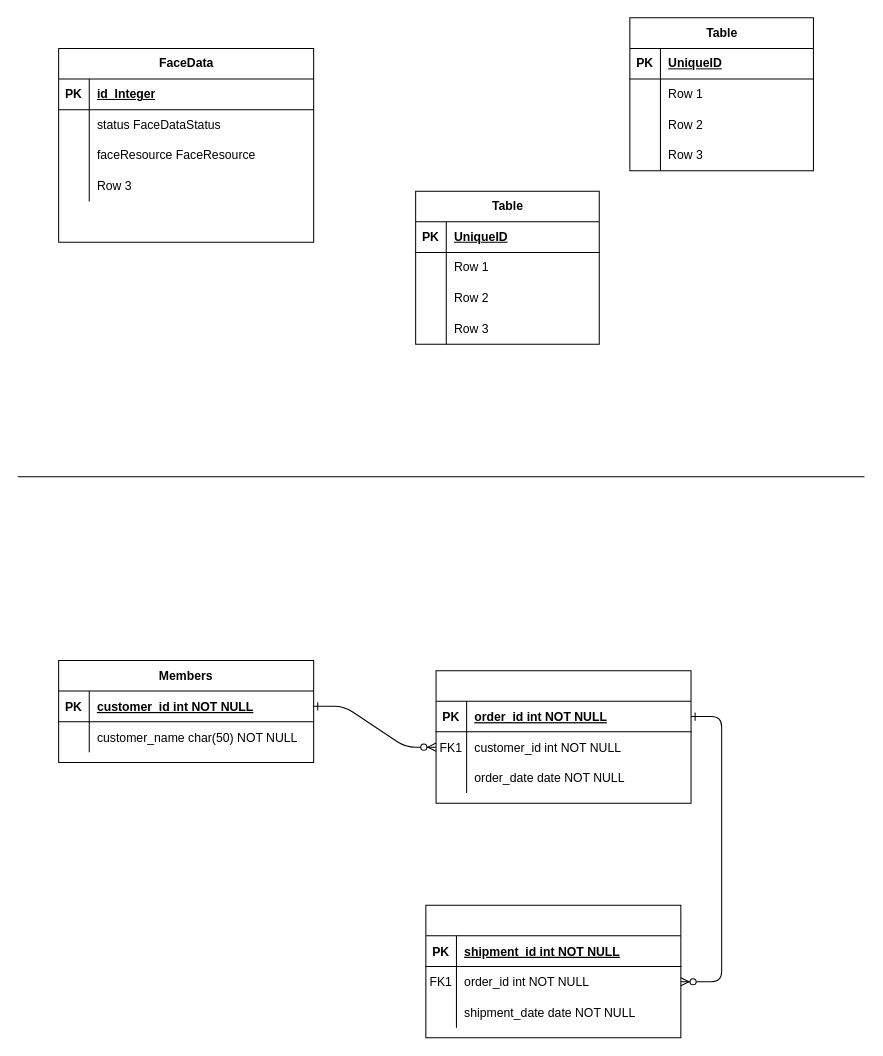
The diagram is 883 pixels wide and 1056 high, and some of its shapes have lost their labels. Each missing label, with the box of its shape:
Orders: (435, 670, 691, 803)
Shipments: (425, 904, 681, 1038)
